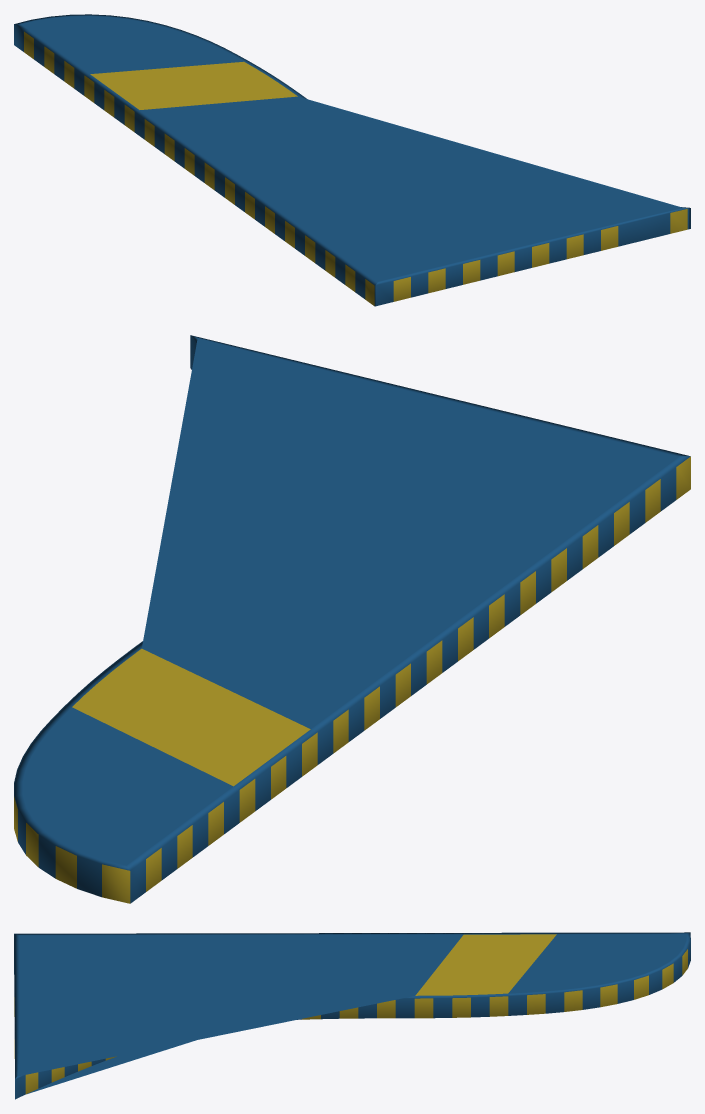
File: Alliance Wing 2.fbx
3 renders of one model, top to bottom at view 1: azimuth 30°, elevation 25°; view 2: azimuth 150°, elevation 25°; view 3: azimuth 270°, elevation 25°, orthographic. The views are drawn at different scales.
Visible parts, largest first — view 1: bevelPolygon1; view 2: bevelPolygon1; view 3: bevelPolygon1.
Part boxes in pixels (x1,y1,x2,y2): bevelPolygon1: (14, 14, 690, 306); bevelPolygon1: (14, 335, 690, 903); bevelPolygon1: (14, 932, 690, 1099).
Size of the model in its own units: 6.79 by 0.4454 by 13.2.
